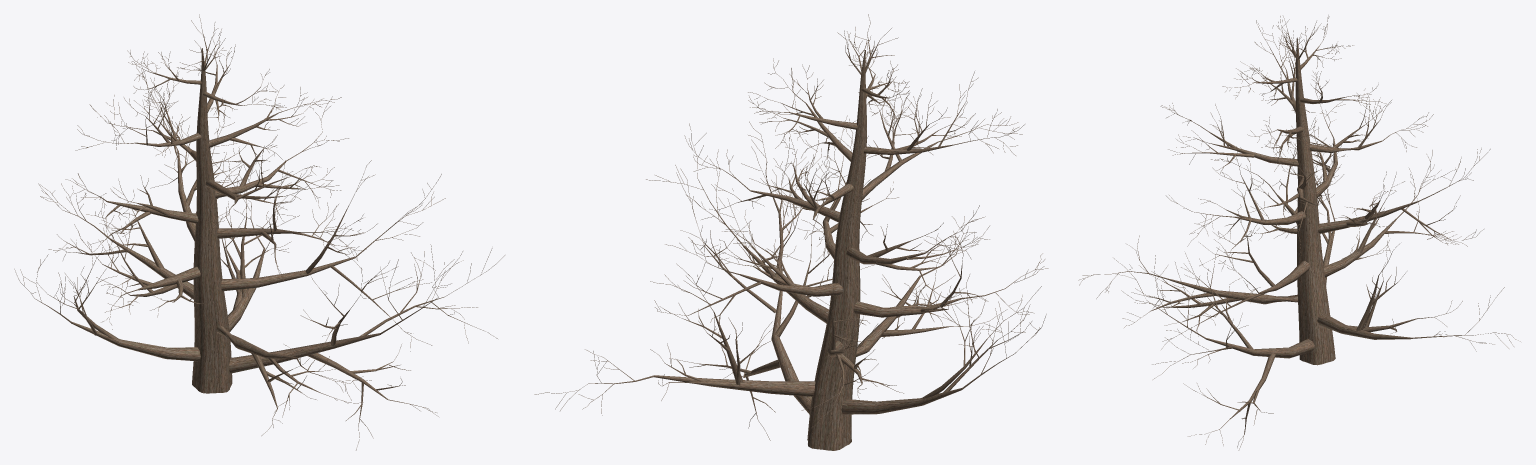
Rendered from crown_lod_2.glb.
The picture shows the model from 3 angles, left to right: view 1: azimuth 30°, elevation 25°; view 2: azimuth 150°, elevation 25°; view 3: azimuth 270°, elevation 25°; orthographic projection. The views are drawn at different scales.
Bounding box in the file's own units: 9.81 × 9.84 × 10.39.
1 material, 1 textured.
